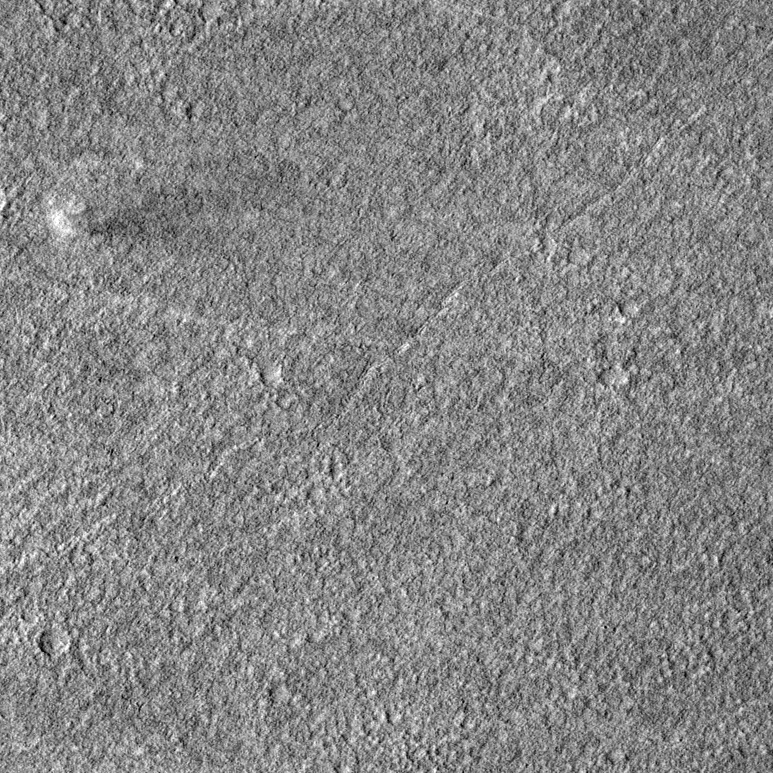dust_devil: (49, 189, 181, 248)
